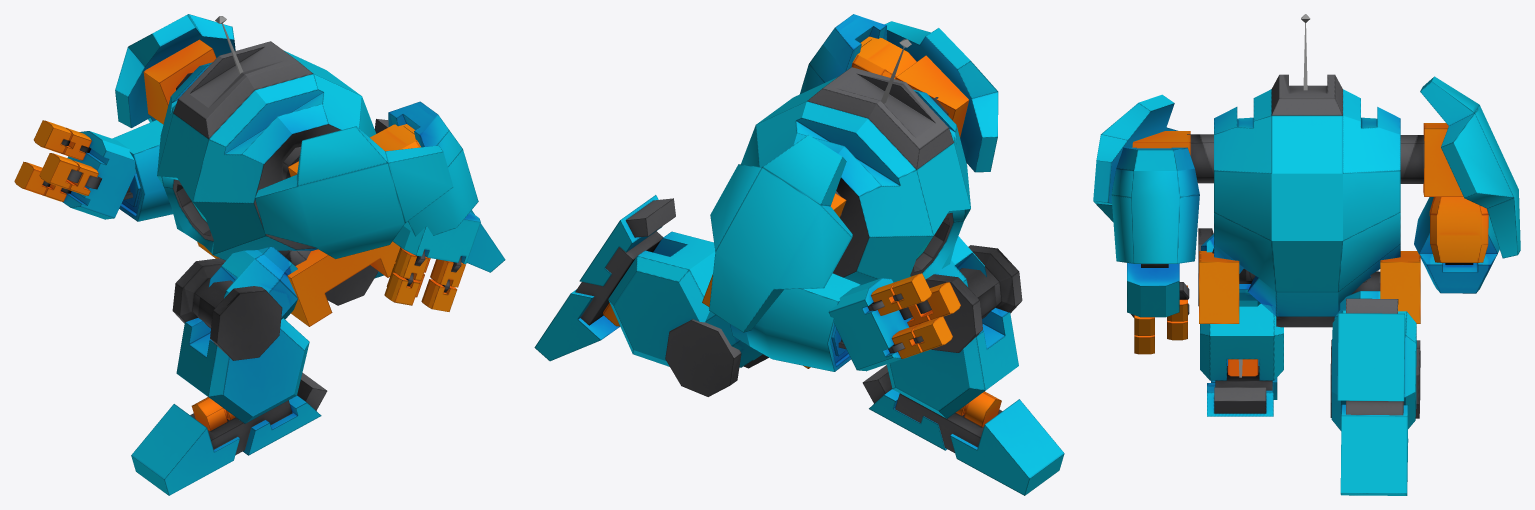
Rendered from Walk15.obj.
The picture shows the model from 3 angles, left to right: view 1: azimuth 30°, elevation 25°; view 2: azimuth 150°, elevation 25°; view 3: azimuth 270°, elevation 25°; orthographic projection. The views are drawn at different scales.
Visible parts, largest first — view 1: Plane001, Object006, Object013, Object014, Object004, Object002, Object008, Object007, Object012, Object003, Object011, Object010; view 2: Plane001, Object002, Object010, Object013, Object014, Object006, Object004, Object011, Object003, Object007, Object012, Object009; view 3: Plane001, Object002, Object011, Object007, Object013, Object006, Object008, Object014, Object003, Object010, Object001, Object005 (+2 smaller).
Part boxes in pixels (x1,y1,x2,y2): Plane001: (157, 41, 400, 326); Object006: (255, 124, 453, 258); Object013: (172, 258, 309, 423); Object014: (131, 372, 327, 495); Object004: (14, 120, 136, 219); Object002: (115, 14, 235, 127); Object008: (384, 212, 480, 311); Object007: (388, 101, 478, 236); Object012: (208, 247, 310, 319); Object003: (112, 120, 173, 221); Object011: (374, 119, 505, 272); Object010: (325, 265, 383, 305); Plane001: (702, 67, 970, 368); Object002: (709, 135, 852, 332); Object010: (608, 231, 768, 396); Object013: (886, 245, 1022, 418); Object014: (862, 365, 1064, 495); Object006: (851, 21, 998, 172); Object004: (828, 273, 960, 371); Object011: (534, 195, 675, 361); Object003: (730, 273, 860, 371); Object007: (800, 14, 886, 93); Object012: (934, 236, 986, 287); Object009: (705, 311, 762, 367); Plane001: (1199, 74, 1420, 327); Object002: (1420, 76, 1520, 262); Object011: (1337, 298, 1408, 495); Object007: (1111, 147, 1199, 263); Object013: (1198, 228, 1283, 380); Object006: (1093, 94, 1190, 221); Object008: (1127, 263, 1189, 354); Object014: (1207, 359, 1277, 416); Object003: (1414, 197, 1499, 293); Object010: (1330, 310, 1420, 430); Object001: (1400, 135, 1424, 183); Object005: (1187, 134, 1213, 183).
Size of the model in its own units: 209 by 198 by 182.
